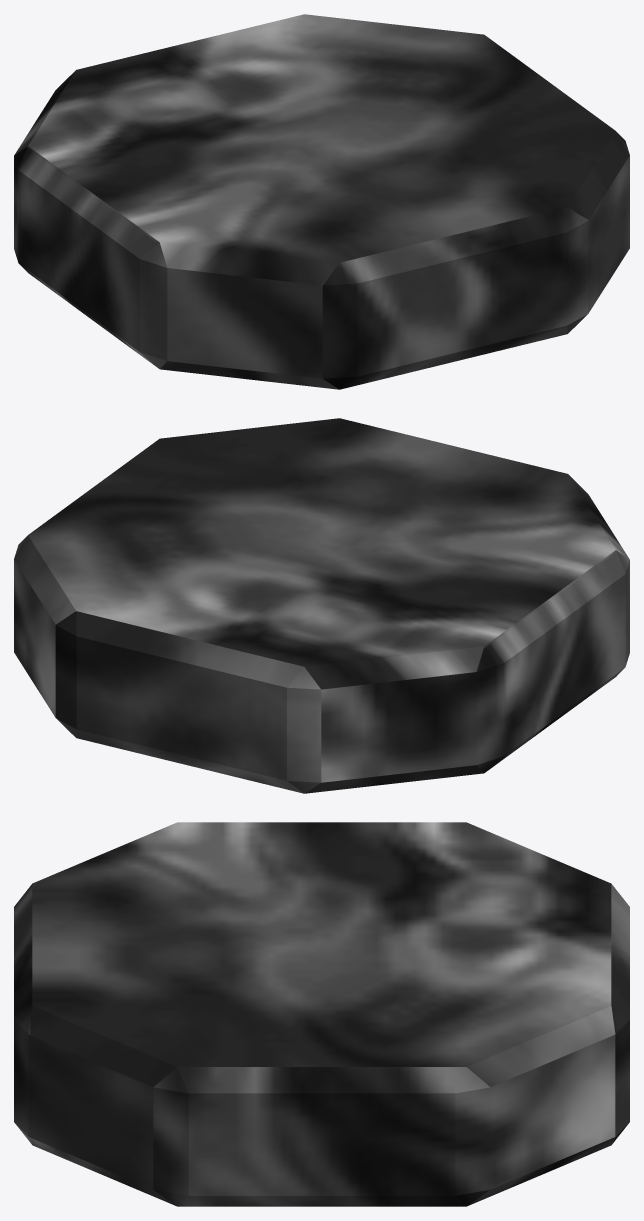
File: AssemblyBlockPartsD.dae
3 renders of one model, top to bottom at view 1: azimuth 30°, elevation 25°; view 2: azimuth 150°, elevation 25°; view 3: azimuth 270°, elevation 25°, orthographic. The views are drawn at different scales.
Parts seen in each view (by area): view 1: m3; view 2: m3; view 3: m3.
Part boxes in pixels (left/top/right/bottom): m3: left=14, top=14, right=629, bottom=389; m3: left=14, top=418, right=629, bottom=793; m3: left=14, top=822, right=629, bottom=1206.
Bounding box in the file's own units: 600 × 150 × 600.
4 materials, 4 textured.
